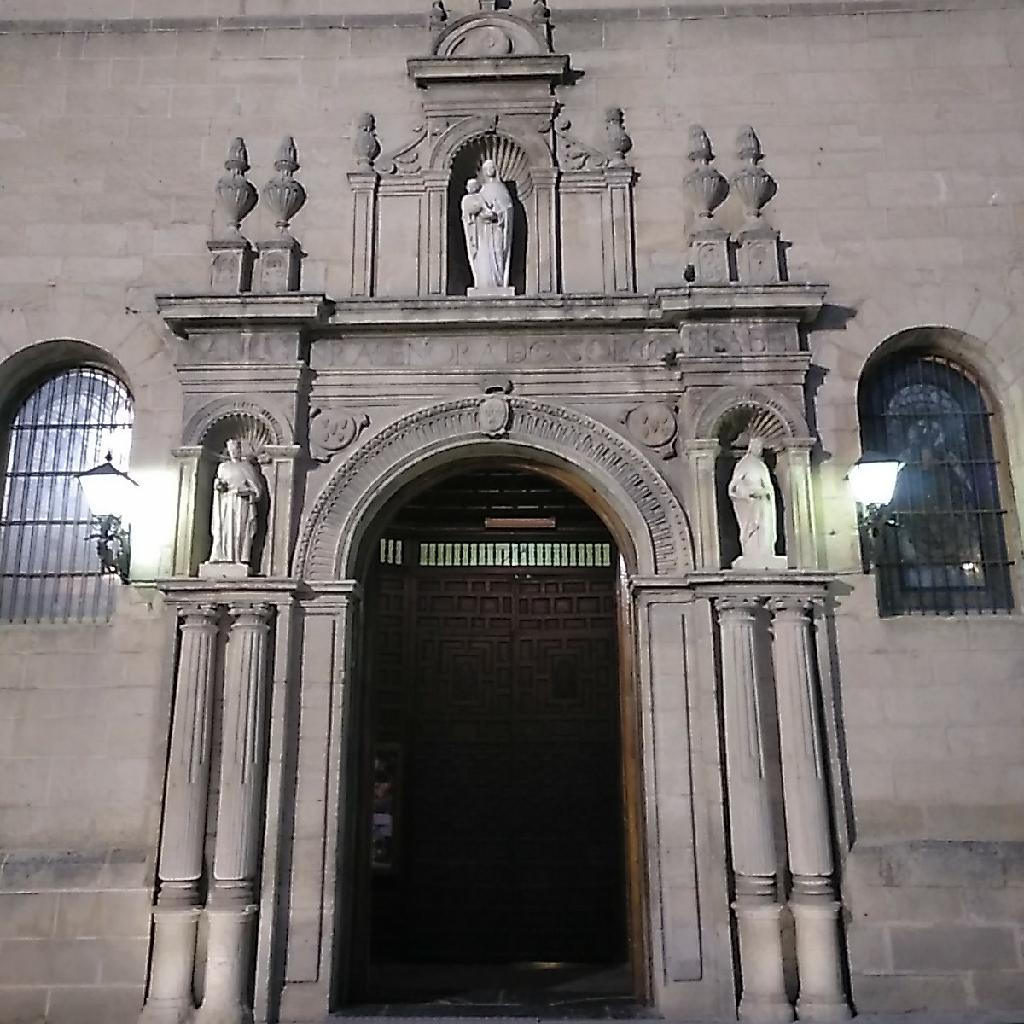arco-medio-punto: (338, 430, 655, 621), (831, 319, 1017, 428), (0, 333, 152, 447)
fronton-curvo: (423, 12, 555, 66)
